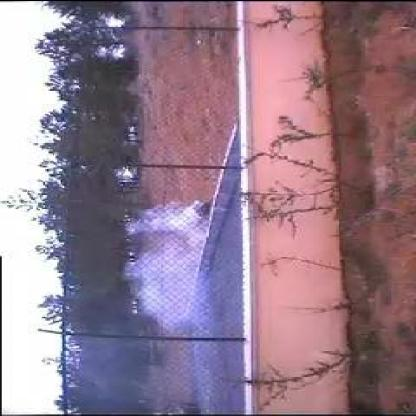-: (127, 194, 209, 342)
